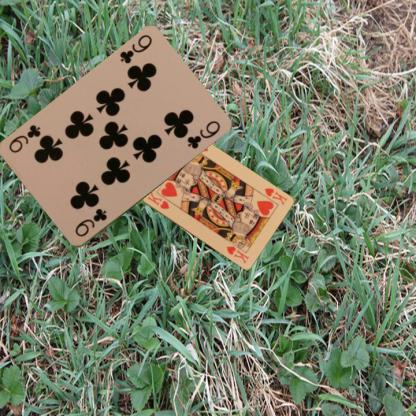9c: (116, 32, 154, 66), (72, 206, 109, 238)
Kh: (262, 185, 288, 207), (144, 190, 170, 210)
